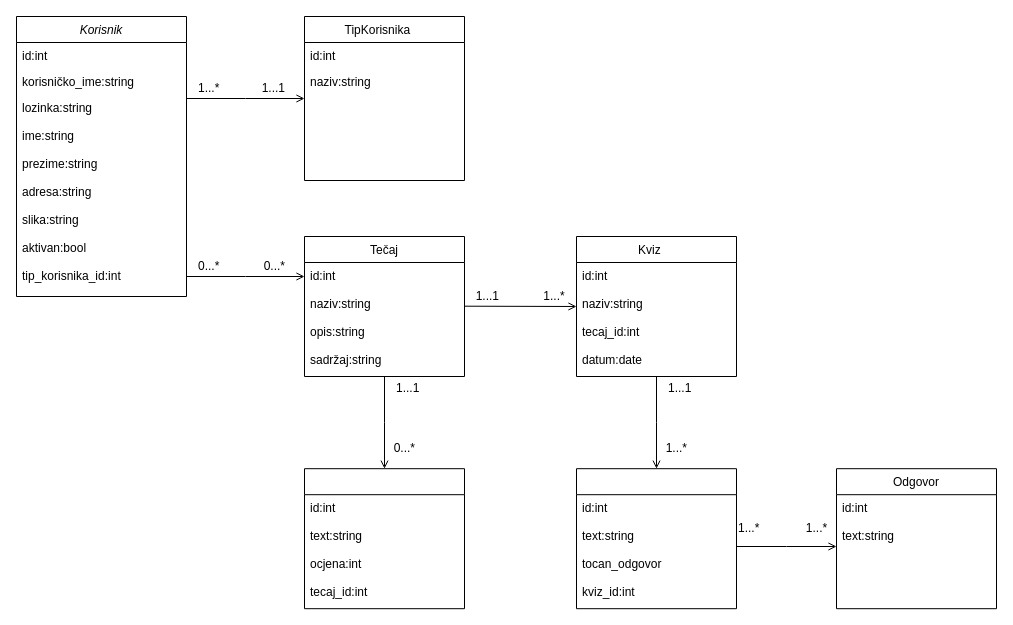
The diagram is 1013 pixels wide and 625 high, and some of its shapes have lost their labels. Here are the shapes that lost their labels. From the top down, the box of each, then its label:
(304, 468, 464, 609): Komentar
(576, 468, 736, 609): Pitanje
